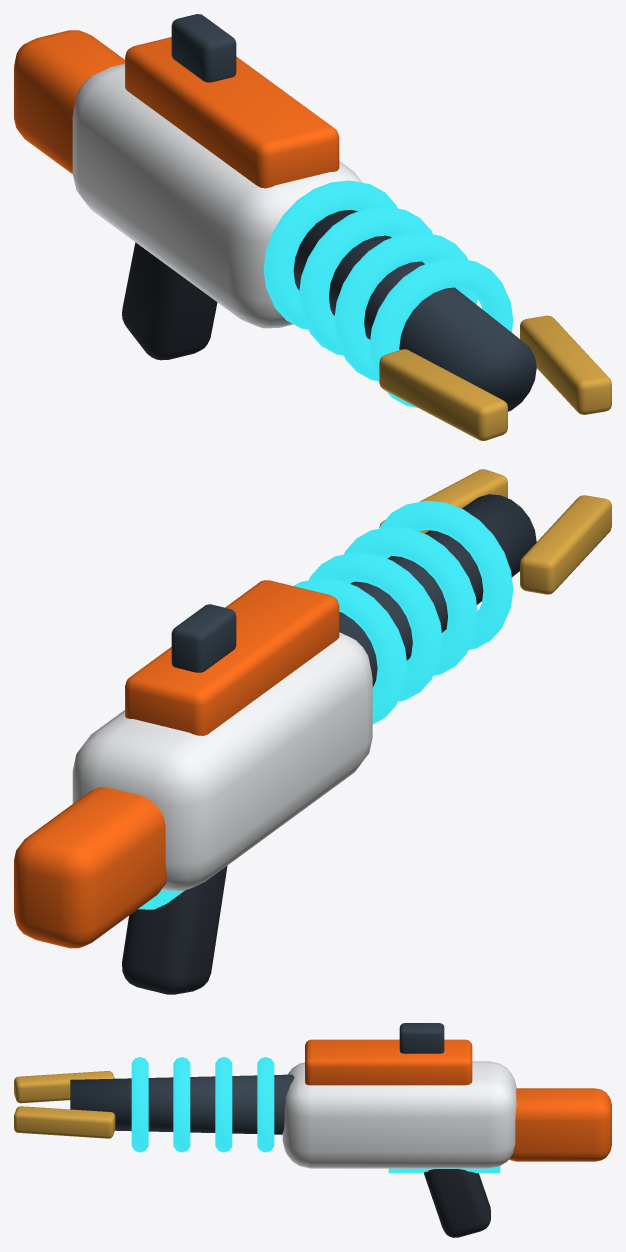
Rendered from wpn_lancer.glb.
The picture shows the model from 3 angles, top to bottom: view 1: azimuth 30°, elevation 25°; view 2: azimuth 150°, elevation 25°; view 3: azimuth 270°, elevation 25°; orthographic projection. The views are drawn at different scales.
Visible parts, largest first — view 1: body, top, barrel, stock, grip, prong_-1, coil_glow_3, coil_glow_2, coil_glow_1, coil_glow_0, prong_1, sight; view 2: body, stock, top, grip, barrel, coil_glow_3, coil_glow_2, coil_glow_1, prong_-1, coil_glow_0, sight, prong_1; view 3: body, barrel, top, stock, grip, prong_1, prong_-1, coil_glow_1, coil_glow_0, coil_glow_2, coil_glow_3, sight (+1 smaller).
Part boxes in pixels (x1=…): body: x1=72, y1=63, x2=362, y2=328; top: x1=125, y1=37, x2=339, y2=188; barrel: x1=293, y1=210, x2=536, y2=411; stock: x1=14, y1=30, x2=124, y2=173; grip: x1=122, y1=242, x2=217, y2=360; prong_-1: x1=379, y1=349, x2=507, y2=440; coil_glow_3: x1=369, y1=258, x2=513, y2=407; coil_glow_2: x1=334, y1=232, x2=477, y2=381; coil_glow_1: x1=299, y1=206, x2=432, y2=355; coil_glow_0: x1=263, y1=180, x2=397, y2=329; prong_1: x1=520, y1=315, x2=611, y2=414; sight: x1=171, y1=14, x2=236, y2=82; body: x1=72, y1=632, x2=372, y2=890; stock: x1=14, y1=787, x2=166, y2=948; top: x1=125, y1=580, x2=339, y2=735; grip: x1=122, y1=865, x2=227, y2=994; barrel: x1=339, y1=494, x2=536, y2=686; coil_glow_3: x1=379, y1=500, x2=513, y2=649; coil_glow_2: x1=344, y1=526, x2=477, y2=675; coil_glow_1: x1=309, y1=552, x2=442, y2=701; prong_-1: x1=520, y1=495, x2=611, y2=594; coil_glow_0: x1=293, y1=578, x2=407, y2=724; sight: x1=171, y1=604, x2=236, y2=672; prong_1: x1=379, y1=469, x2=507, y2=533; body: x1=282, y1=1061, x2=516, y2=1168; barrel: x1=70, y1=1074, x2=294, y2=1134; top: x1=305, y1=1039, x2=472, y2=1085; stock: x1=509, y1=1088, x2=611, y2=1161; grip: x1=424, y1=1169, x2=490, y2=1237; prong_1: x1=14, y1=1106, x2=115, y2=1138; prong_-1: x1=14, y1=1071, x2=114, y2=1103; coil_glow_1: x1=215, y1=1057, x2=232, y2=1152; coil_glow_0: x1=257, y1=1057, x2=274, y2=1152; coil_glow_2: x1=173, y1=1057, x2=190, y2=1152; coil_glow_3: x1=131, y1=1057, x2=148, y2=1152; sight: x1=399, y1=1023, x2=444, y2=1053.
Bounding box in the file's own units: 0.2141 × 0.4082 × 1.07.
